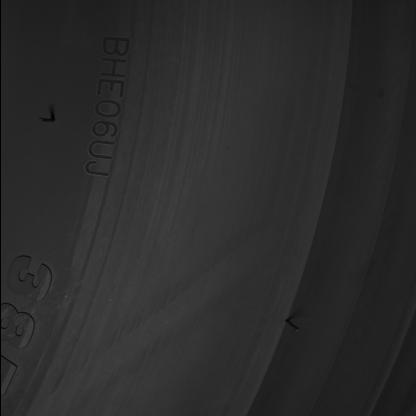ocr: (81, 35, 132, 178)
